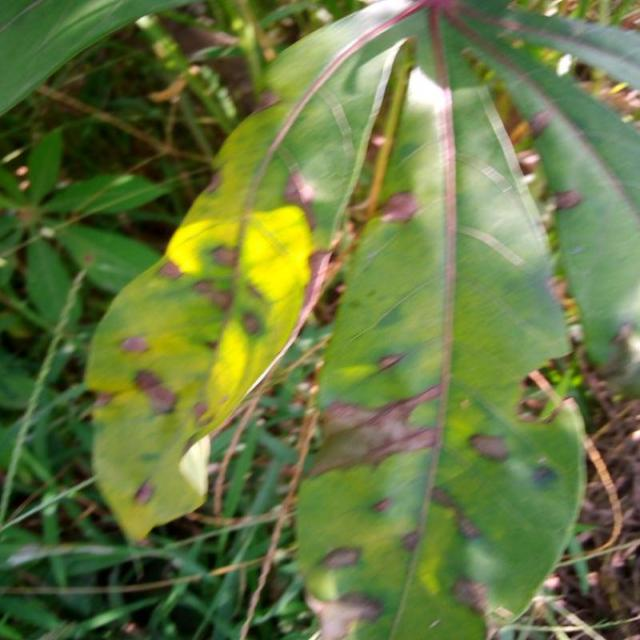cassava leaf: (81, 0, 638, 637), (293, 61, 587, 638)
